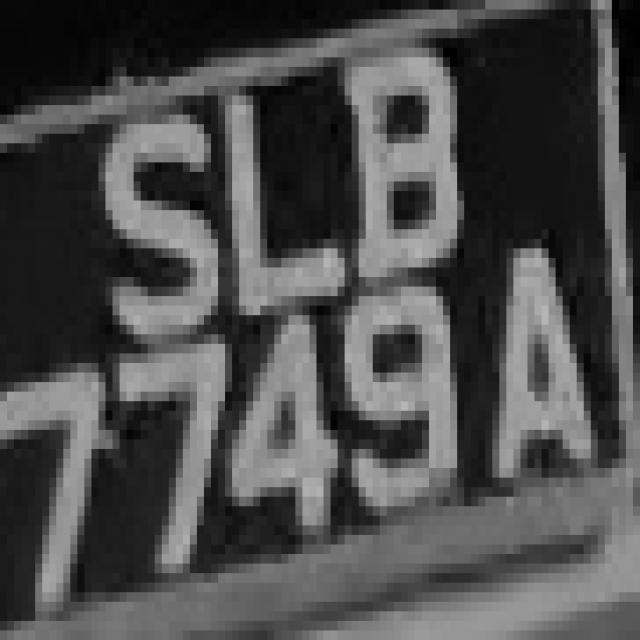4: (218, 286, 345, 544)
7: (99, 287, 232, 592), (0, 344, 120, 640)
9: (331, 258, 471, 535)
A: (471, 220, 605, 487)
B: (324, 38, 464, 296)
L: (197, 28, 345, 306)
S: (84, 86, 232, 353)
